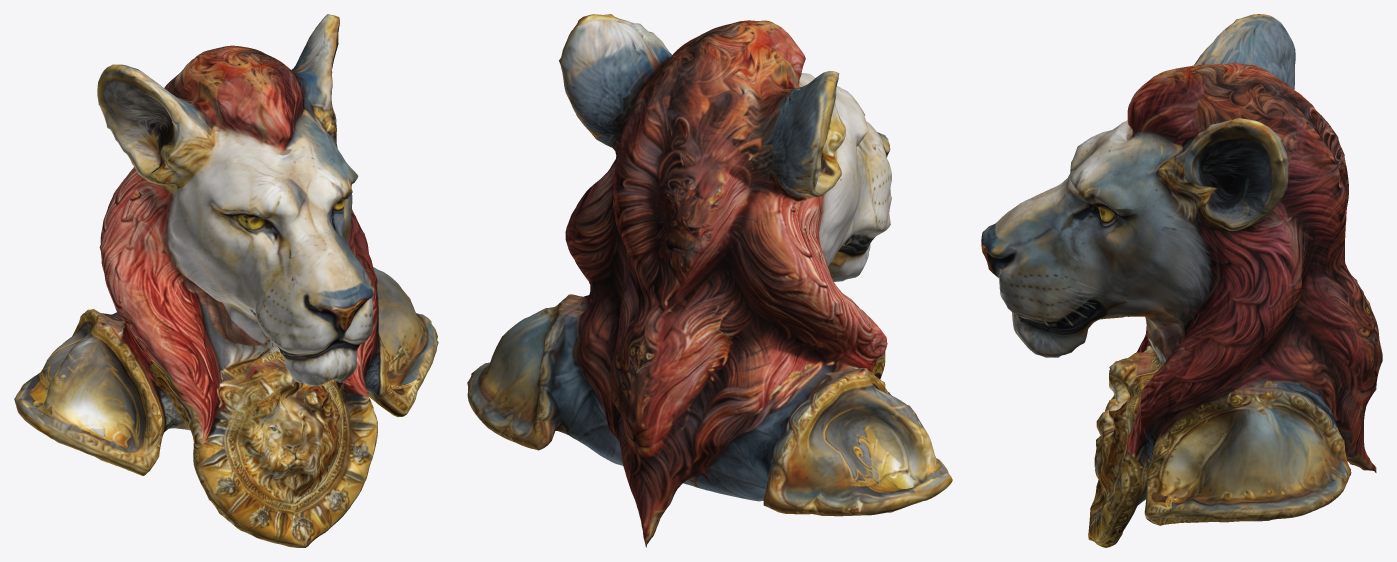
Rendered from model_anim.glb.
3 renders of one model, left to right at view 1: azimuth 30°, elevation 25°; view 2: azimuth 150°, elevation 25°; view 3: azimuth 270°, elevation 25°, orthographic. The views are drawn at different scales.
Bounding box in the file's own units: 1.12 × 1.2 × 0.9216.
Materials: 1 (1 with a texture image).
